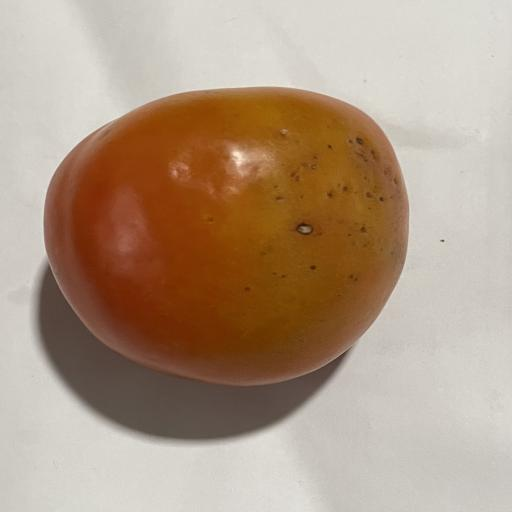unripe: (44, 87, 408, 385)
